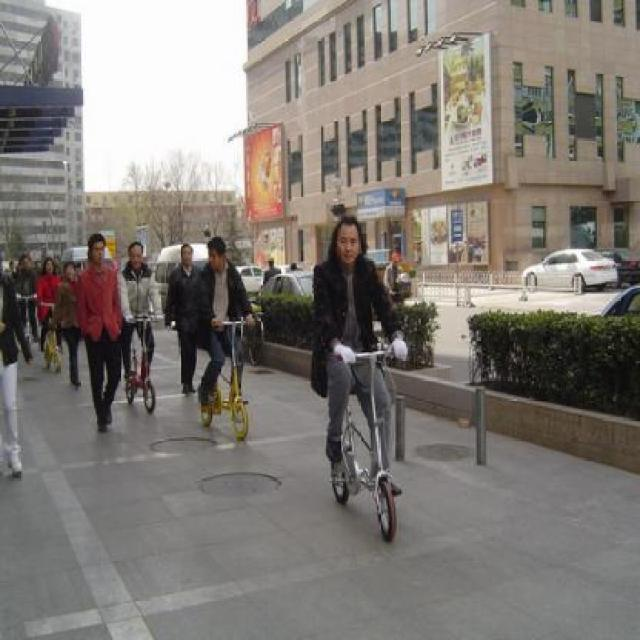face_nomask: (336, 231, 362, 266), (205, 248, 228, 268), (90, 243, 108, 268), (128, 249, 146, 266), (180, 246, 194, 266)
hand_glove: (389, 337, 409, 361), (332, 342, 356, 362), (124, 312, 136, 323), (154, 311, 164, 323)
hand_noglove: (208, 314, 222, 329), (241, 314, 257, 326), (25, 355, 32, 368), (0, 318, 5, 331), (388, 288, 392, 294), (38, 300, 42, 306)
head_nohelmet: (328, 212, 363, 232), (203, 235, 228, 254), (84, 232, 108, 246), (128, 238, 144, 252), (178, 243, 196, 254)
person: (303, 220, 409, 509), (64, 232, 136, 450), (200, 237, 260, 426), (123, 240, 168, 412), (169, 242, 206, 400)
shoes: (318, 423, 351, 465), (92, 406, 114, 432)
